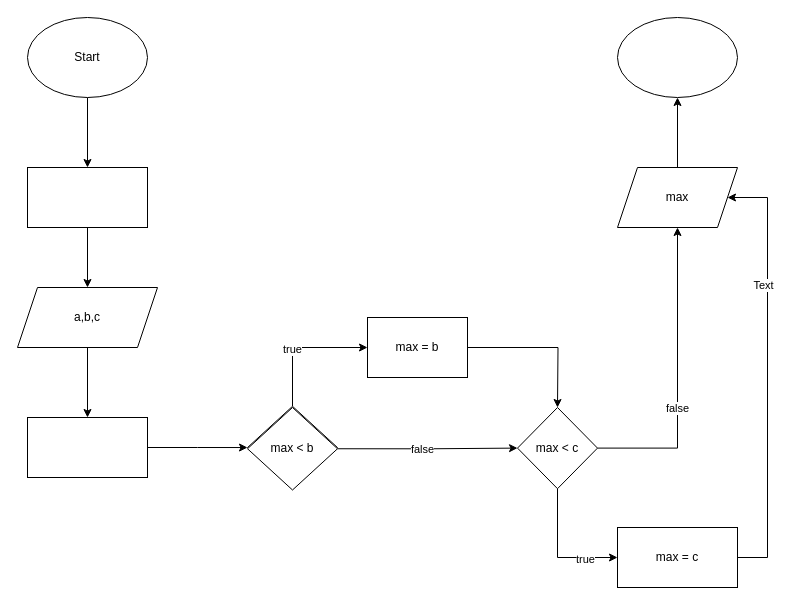
The diagram is 793 pixels wide and 605 high, and some of its shapes have lost their labels. Here are the shapes that lost their labels. From the top down, the centre of each, then its label:
point (677, 57): ;end
point (87, 197): a,b,c max
point (87, 447): max = a
